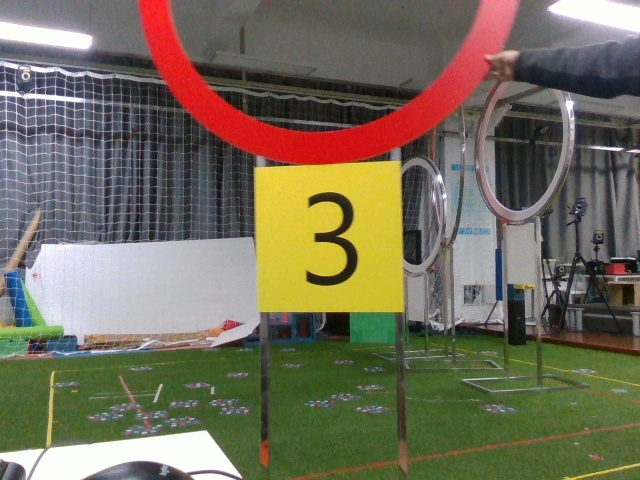target: (260, 168, 403, 311)
